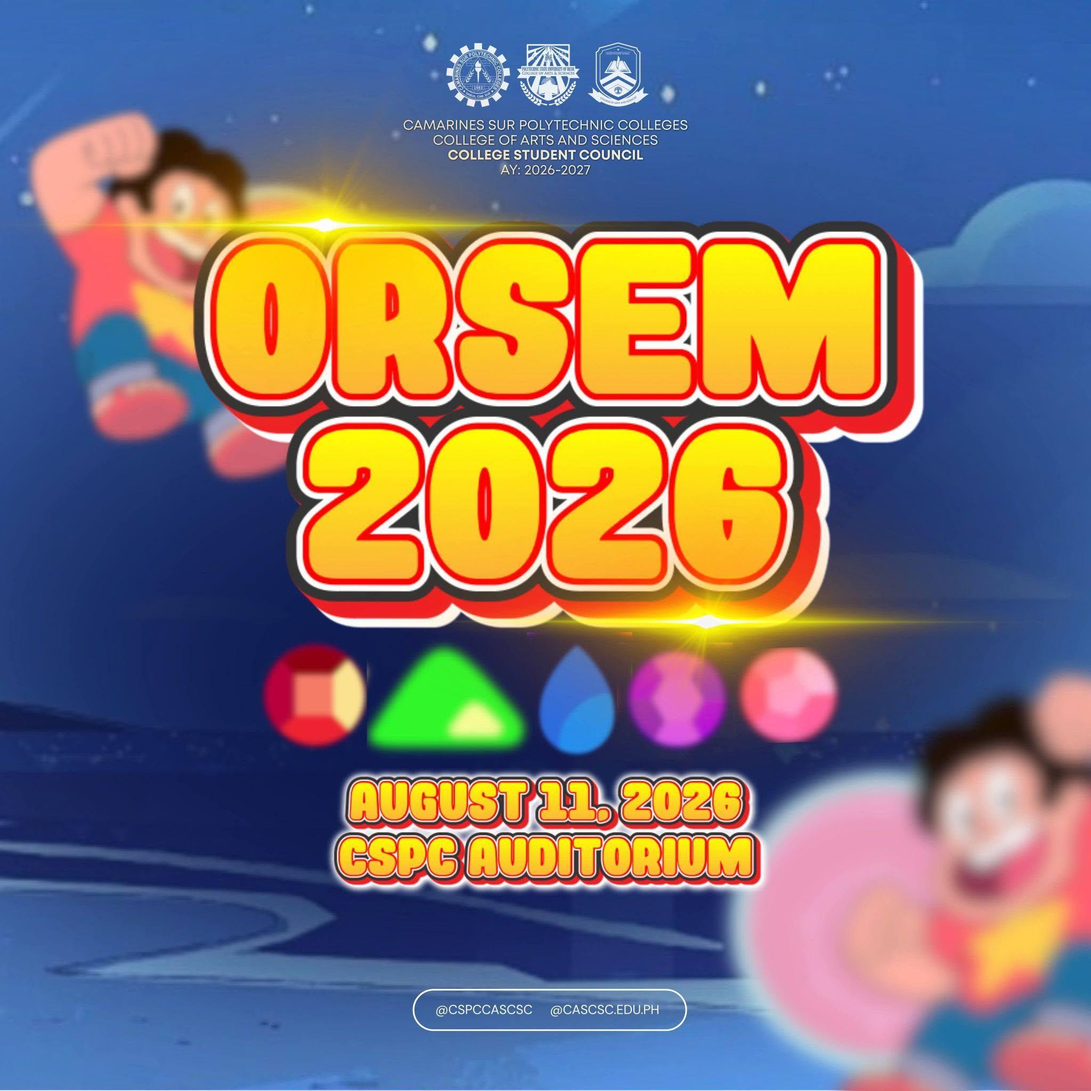embellishment: (369, 641, 526, 755), (561, 608, 954, 649), (411, 987, 686, 1032), (209, 204, 432, 258), (260, 641, 367, 748), (626, 647, 729, 751), (740, 646, 838, 743), (537, 645, 616, 756)
logo: (445, 42, 513, 108), (585, 42, 649, 108), (516, 43, 581, 107)
text: (204, 238, 926, 619), (339, 771, 762, 908), (389, 100, 703, 190), (410, 975, 694, 1038)
underlay: (411, 987, 686, 1032)
